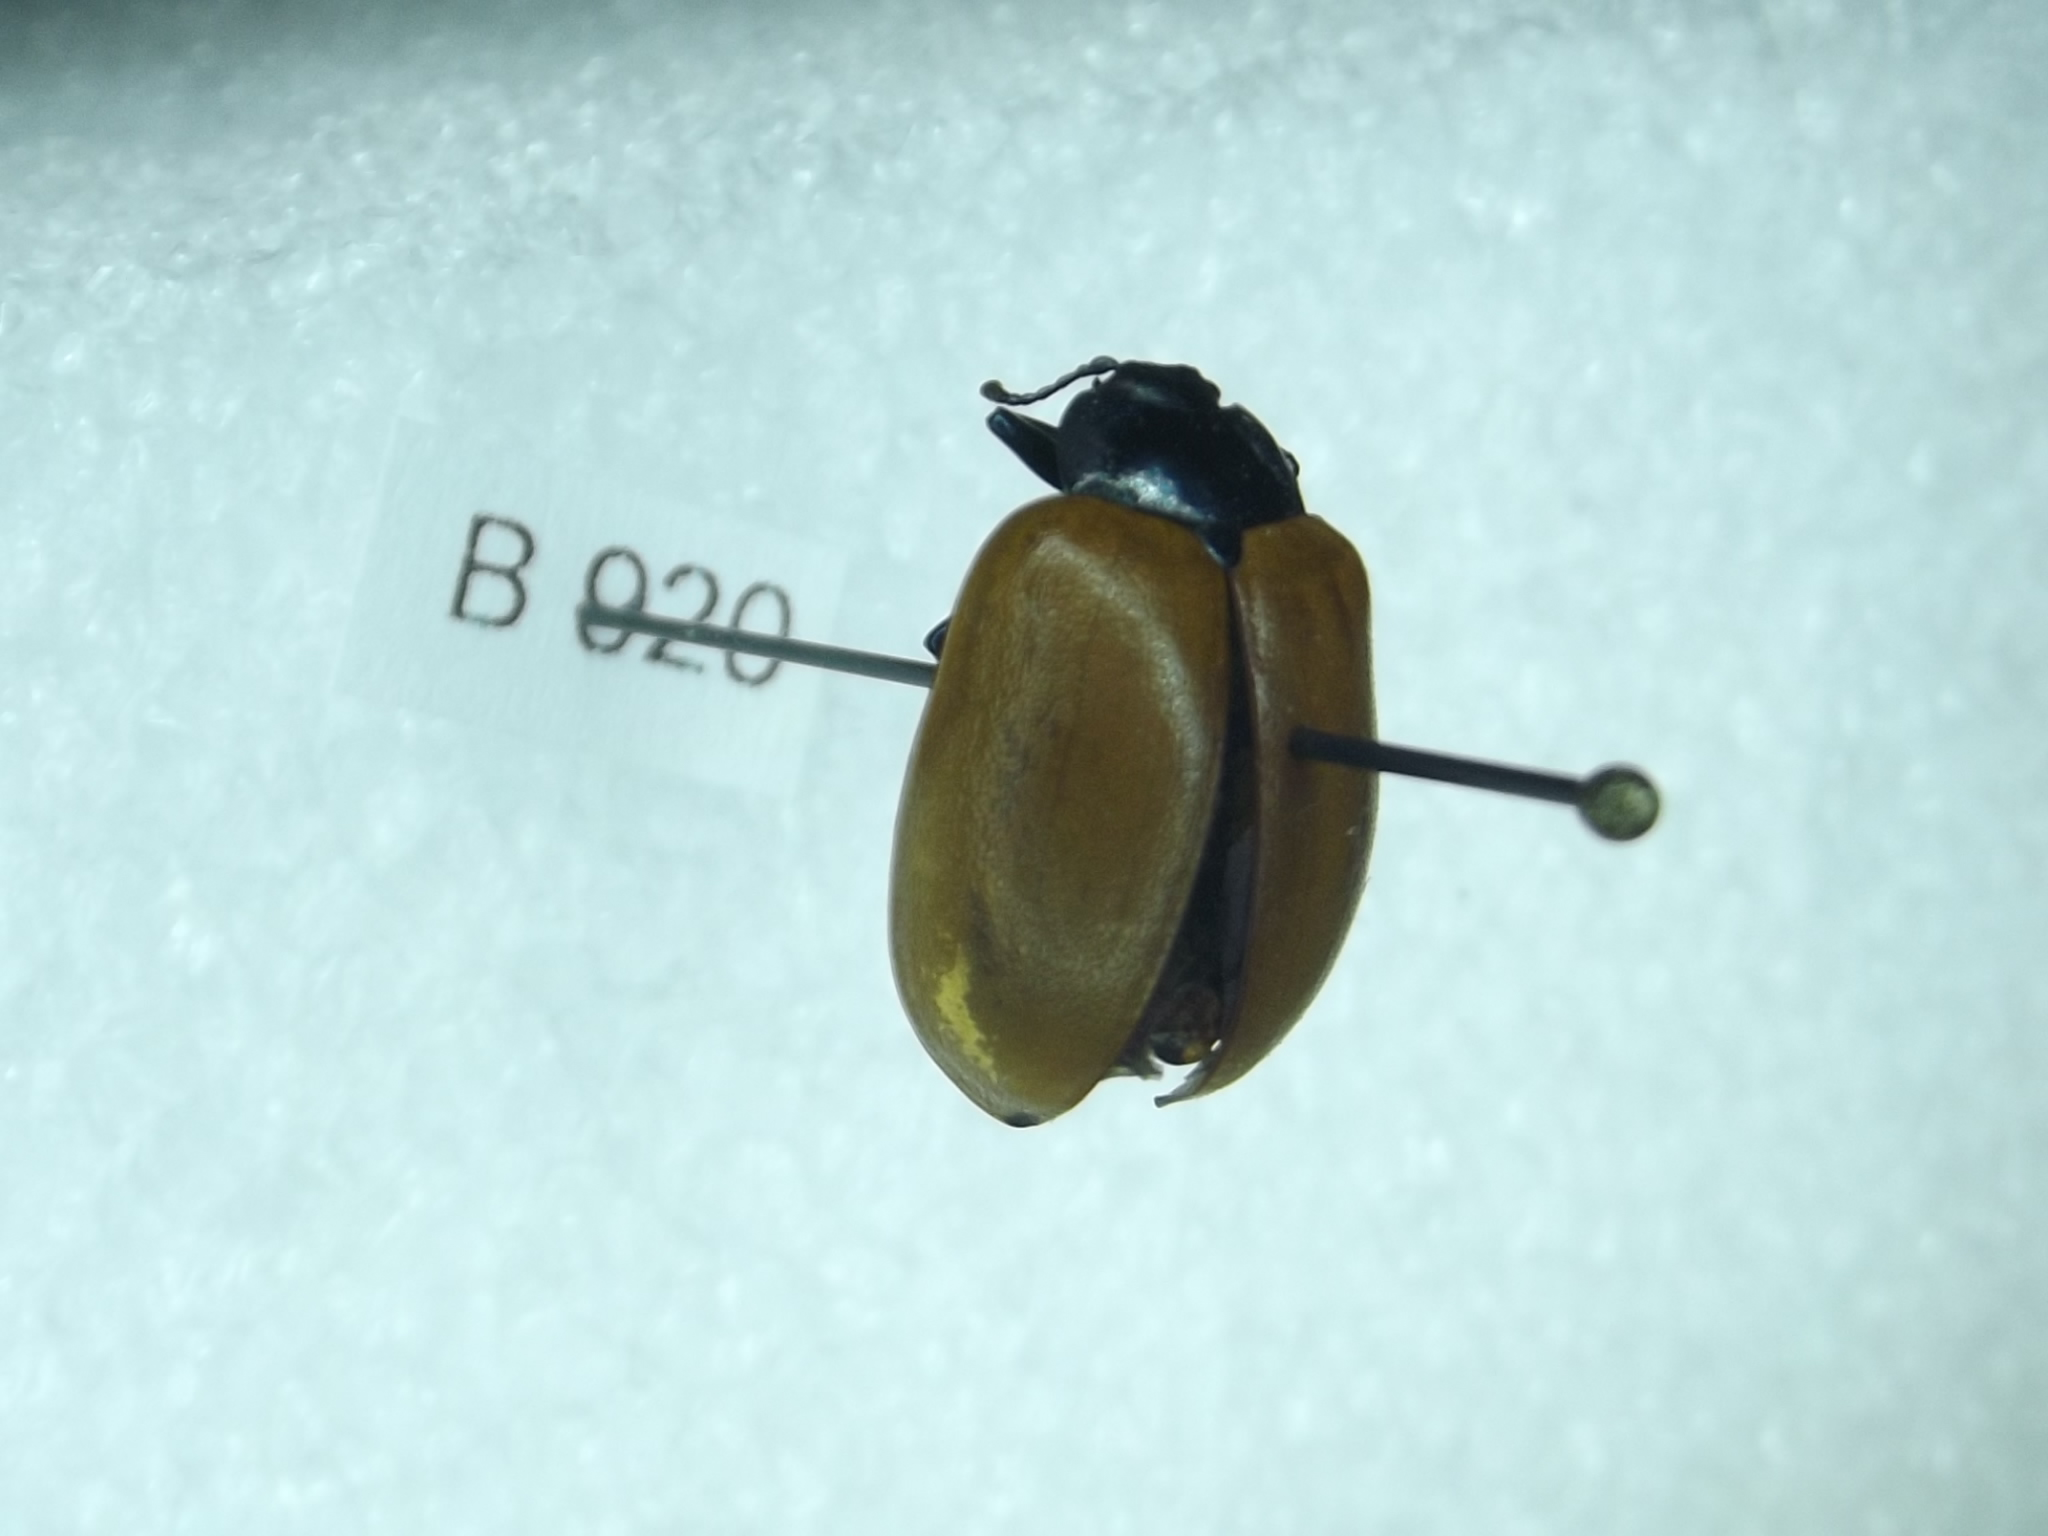Chrysomela_populi: (866, 349, 1413, 1142)
